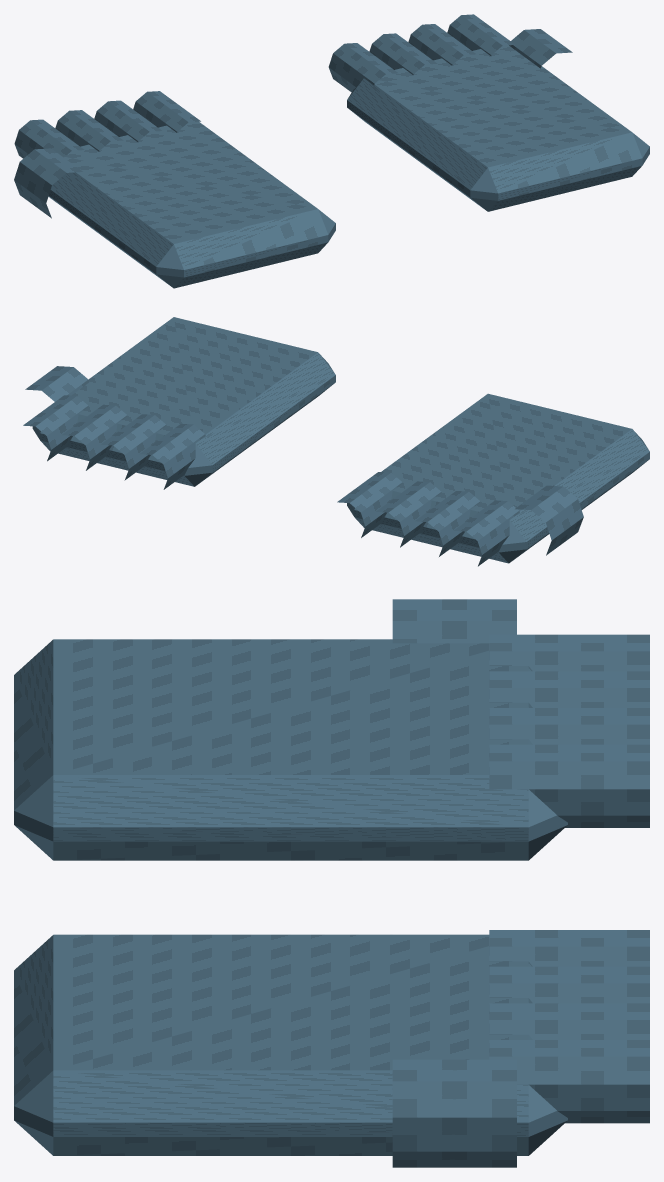
The model's file is gloves_wool_fingerless.glb.
3 renders of one model, top to bottom at view 1: azimuth 30°, elevation 25°; view 2: azimuth 150°, elevation 25°; view 3: azimuth 270°, elevation 25°, orthographic. The views are drawn at different scales.
Visible parts, largest first — view 1: block_wool palm (×2), block_open finger cuff (×8), block_open thumb cuff (×2); view 2: block_wool palm (×2), block_open finger cuff (×8), block_open thumb cuff (×2); view 3: block_wool palm (×2), block_open finger cuff (×8), block_open thumb cuff (×2).
Part boxes in pixels (<box>): block_wool palm (×2): <box>48,45,649,288</box>; block_open finger cuff (×8): <box>14,14,515,158</box>; block_open thumb cuff (×2): <box>14,29,572,218</box>; block_wool palm (×2): <box>32,317,649,563</box>; block_open finger cuff (×8): <box>23,395,519,566</box>; block_open thumb cuff (×2): <box>25,366,583,555</box>; block_wool palm (×2): <box>14,639,567,1155</box>; block_open finger cuff (×8): <box>489,634,649,1123</box>; block_open thumb cuff (×2): <box>392,599,516,1167</box>.
Size of the model in its own units: 0.1915 by 0.019 by 0.1018.
1 material, 1 textured.
